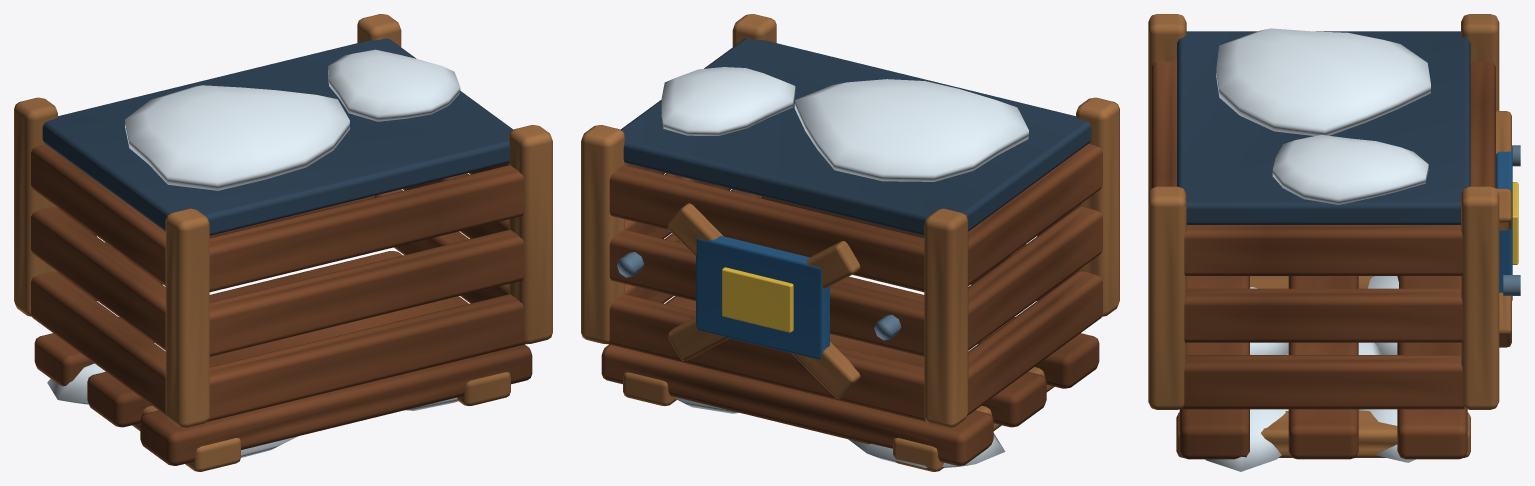
File: cargo_crate.glb
3 views of the same model, side by side, from view 1: azimuth 30°, elevation 25°; view 2: azimuth 150°, elevation 25°; view 3: azimuth 270°, elevation 25° (orthographic). The views are drawn at different scales.
Visible parts, largest first — view 1: cargo_crate; view 2: cargo_crate; view 3: cargo_crate.
Boxes of the visible parts, x1,y1,x2,y2 form: cargo_crate: (14,14,552,471); cargo_crate: (581,14,1119,471); cargo_crate: (1148,14,1520,471).
Size of the model in its own units: 1.43 by 1.07 by 1.17.
